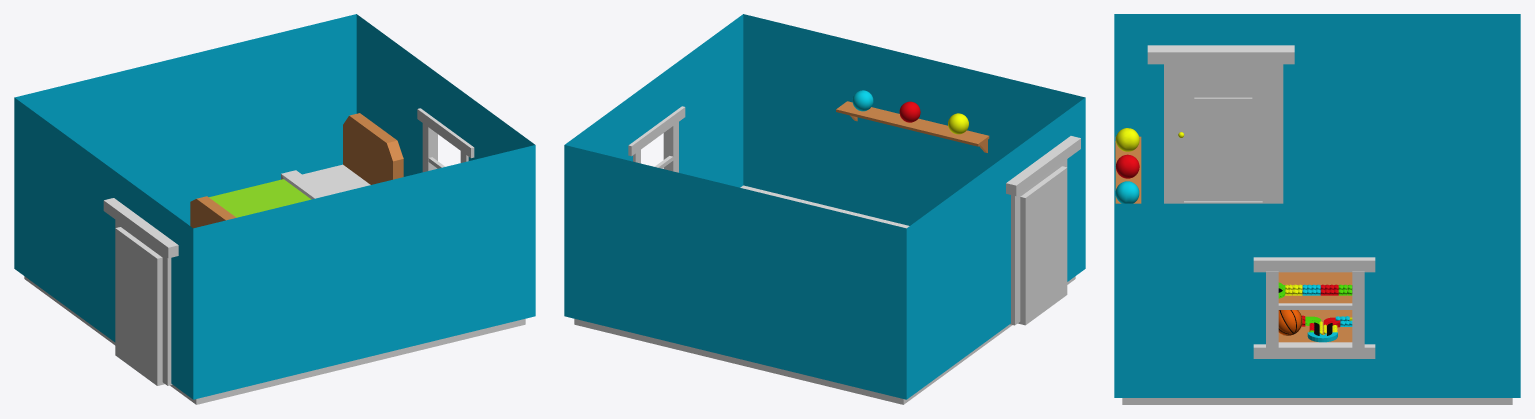
File: FinalLevelDesign.fbx
3 renders of one model, left to right at view 1: azimuth 30°, elevation 25°; view 2: azimuth 150°, elevation 25°; view 3: azimuth 270°, elevation 25°, orthographic. The views are drawn at different scales.
Parts seen in each view (by area): view 1: Backdrop, Bed; view 2: Backdrop; view 3: Backdrop, Track, BasketBall.
Boxes of the visible parts, x1,y1,x2,y2 form: Backdrop: (14,14,535,404); Bed: (190,113,403,228); Backdrop: (564,14,1085,404); Backdrop: (1114,14,1520,404); Track: (1278,282,1352,342); BasketBall: (1278,310,1302,335).
Bounding box in the file's own units: 162639 × 80809 × 140114.
